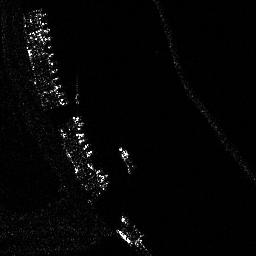ship: (69, 116, 94, 157), (120, 215, 144, 238), (118, 145, 135, 173)
